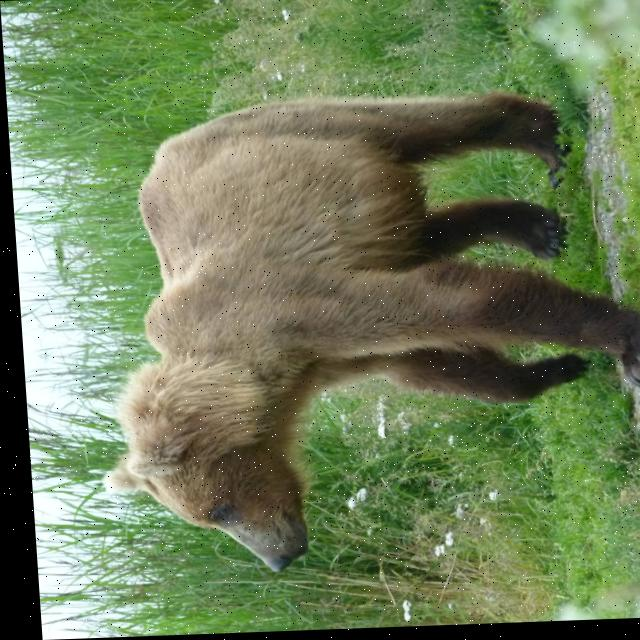bear face: (76, 92, 640, 578)
